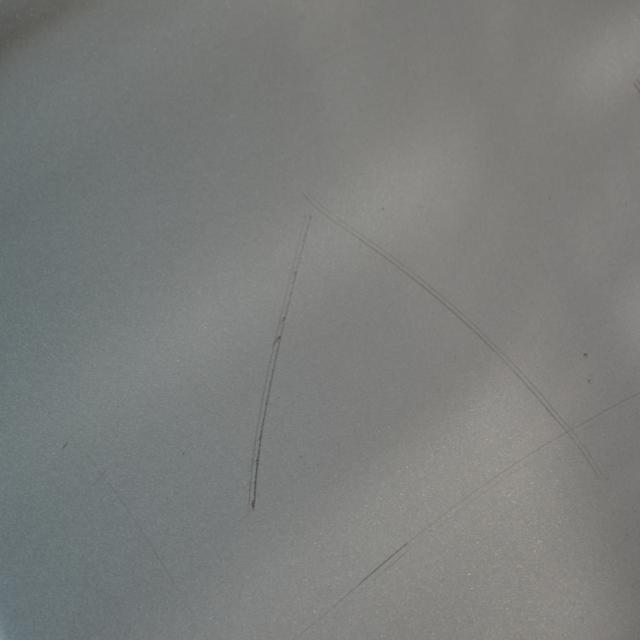dirt: (580, 347, 590, 363), (584, 374, 593, 387)
scratch: (299, 175, 603, 482), (297, 384, 640, 638), (49, 414, 203, 628), (244, 210, 317, 514)
